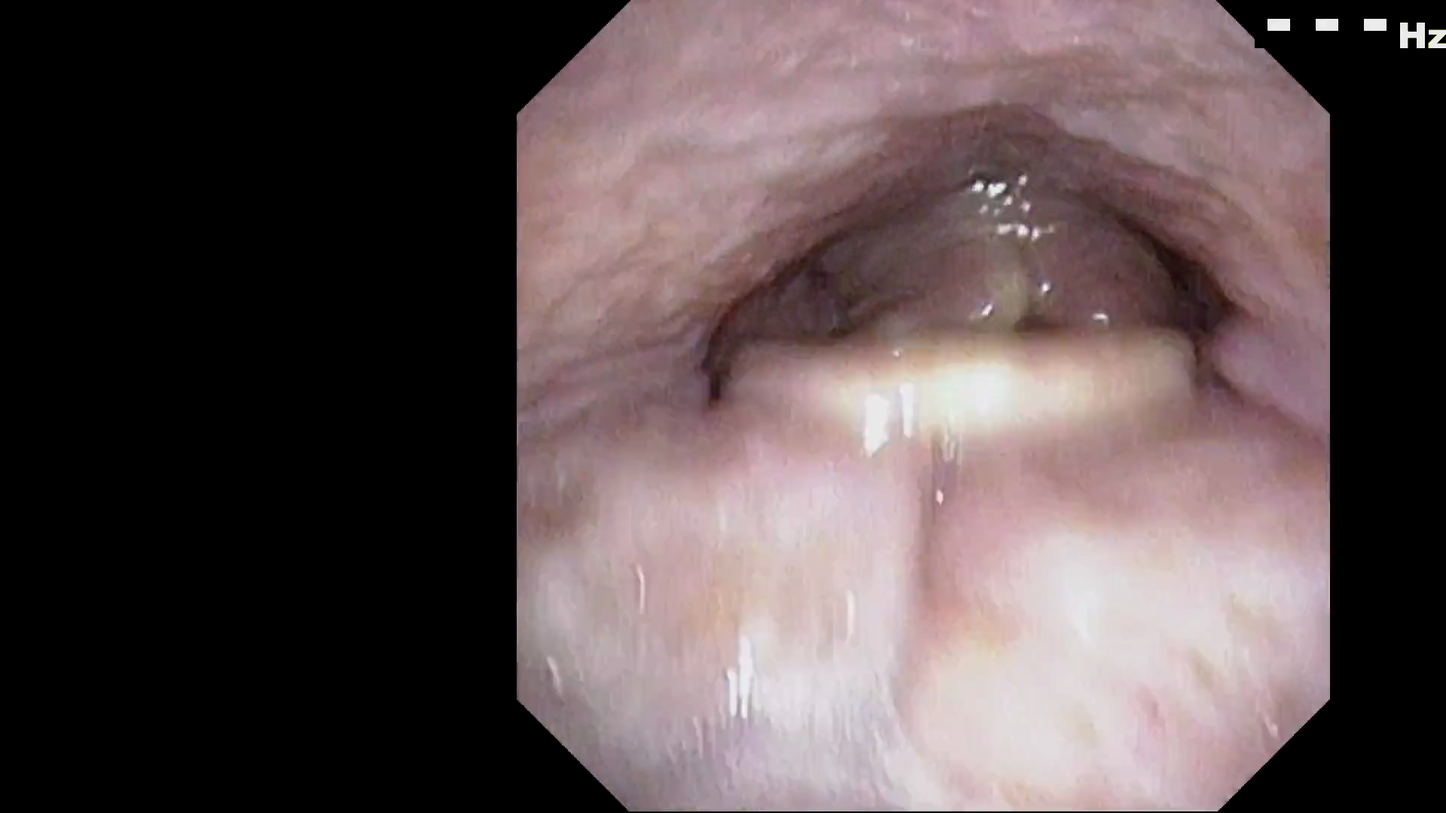epiglottis: (679, 277, 1278, 557)
trachea: (903, 191, 1071, 394)
